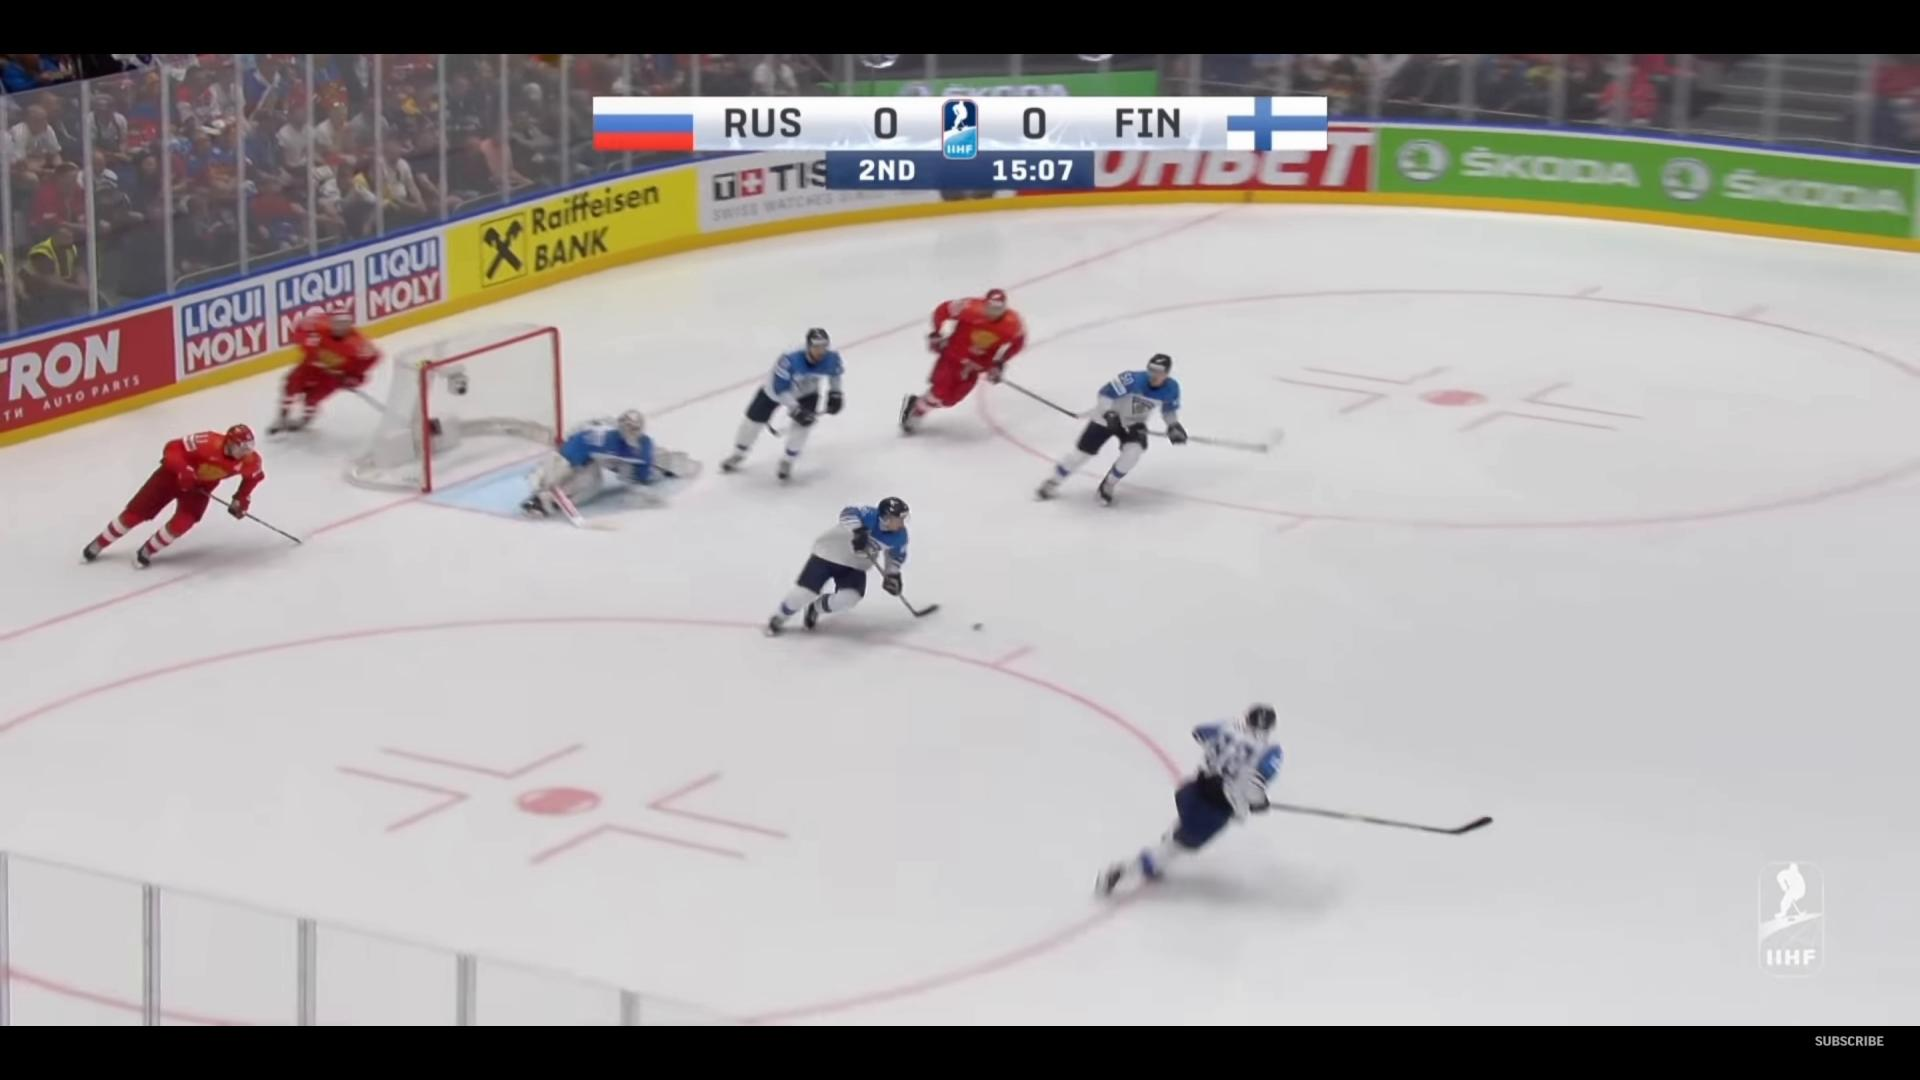puck: (972, 621, 984, 630)
